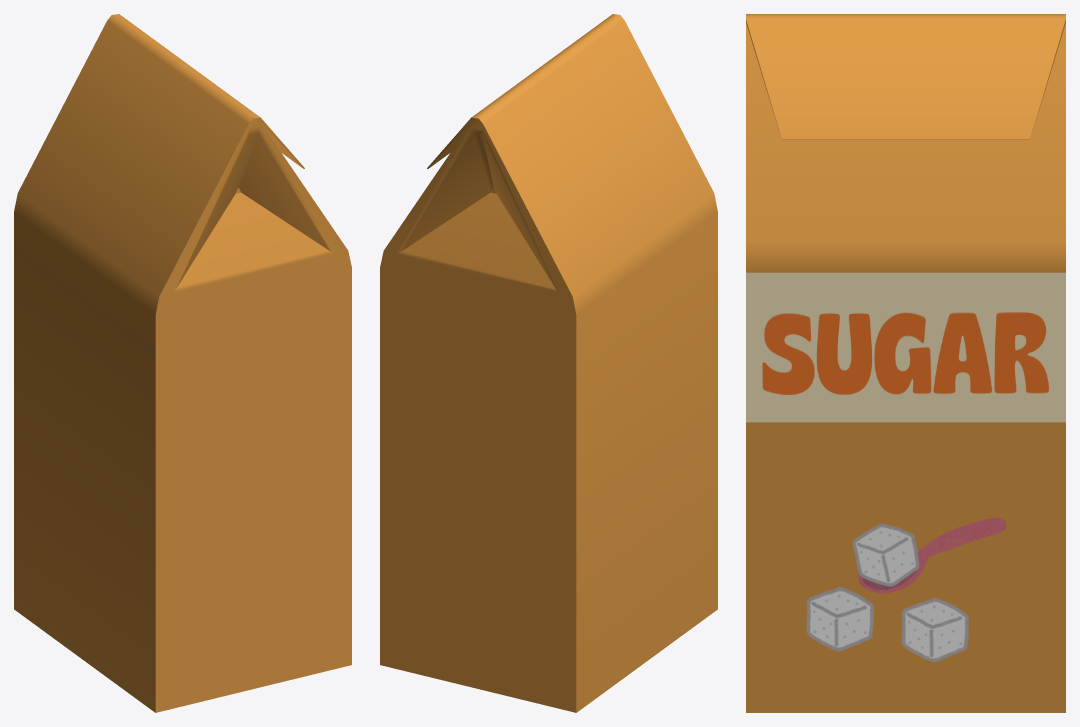
File: sugar.fbx
3 renders of one model, left to right at view 1: azimuth 30°, elevation 25°; view 2: azimuth 150°, elevation 25°; view 3: azimuth 270°, elevation 25°, orthographic. The views are drawn at different scales.
Parts seen in each view (by area): view 1: Sugar; view 2: Sugar; view 3: Sugar.
Part boxes in pixels (x1,y1,x2,y2): Sugar: (14, 14, 351, 712); Sugar: (380, 14, 717, 712); Sugar: (746, 14, 1065, 712).
Size of the model in its own units: 200 by 555 by 250.
3 materials, 2 textured.
